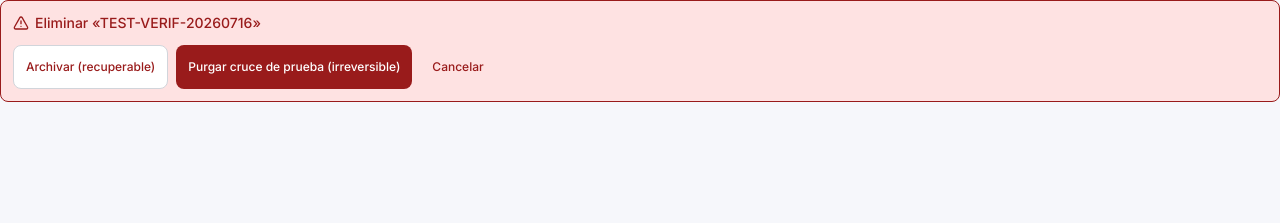
Test: PanelBorrar — fricción de confirmación › con el código equivocado no deja purgar; con el exacto, sí
The image size is (1280, 223).
Later steps or results of the test are not shown.
Click the button "Purgar cruce de prueba (irreversible)".
click(294, 67)  # box [176,45,412,89]
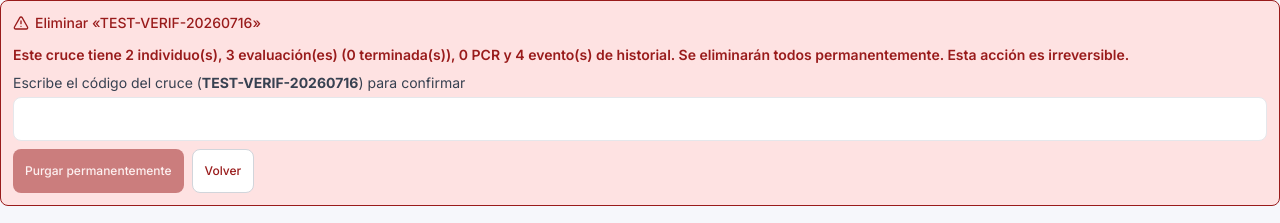
Result: the button "Purgar permanentemente" is disabled at [13,149,184,193]
Un prefijo correcto no alcanza: la comparación es exacta.
Type "TEST-VERIF" into the field labelled "Escribe el código del cruce".
click(640, 119); type("TEST-VERIF")  # box [13,97,1267,141]
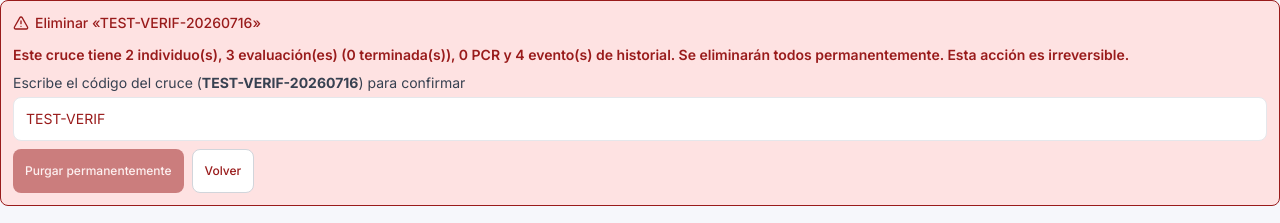
Result: the button "Purgar permanentemente" is disabled at [13,149,184,193]
Ni el mismo código con otra caja.
Replace the text in the field labelled "Escribe el código del cruce" with "test-verif-20260716" at (640, 119), box [13,97,1267,141]
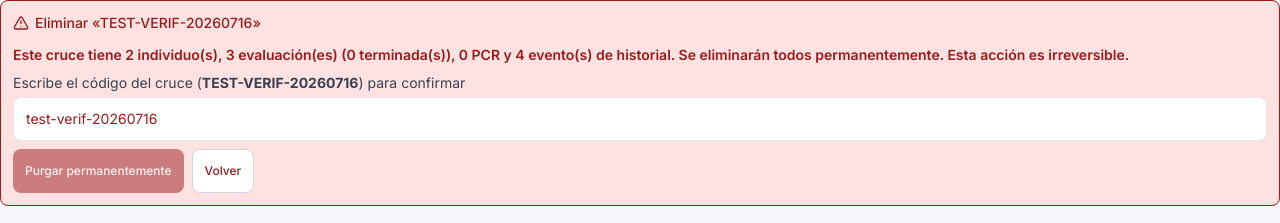
Result: the button "Purgar permanentemente" is disabled at [13,149,184,193]
Replace the text in the field labelled "Escribe el código del cruce" with "TEST-VERIF-20260716" at (640, 119), box [13,97,1267,141]
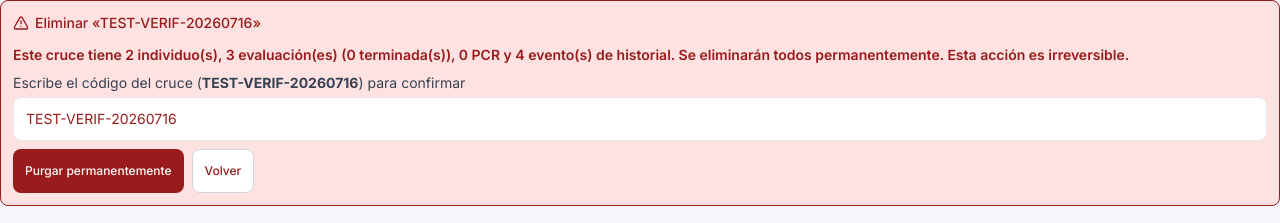
Result: the button "Purgar permanentemente" is enabled at [13,149,184,193]
